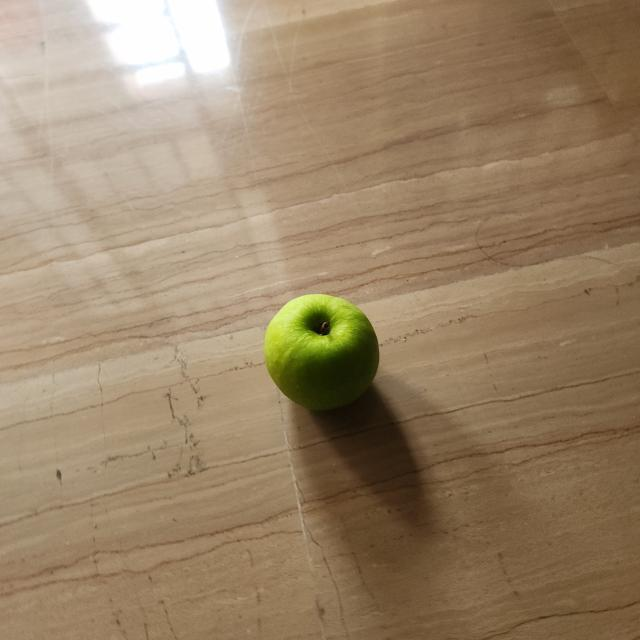apple: (261, 284, 385, 424)
